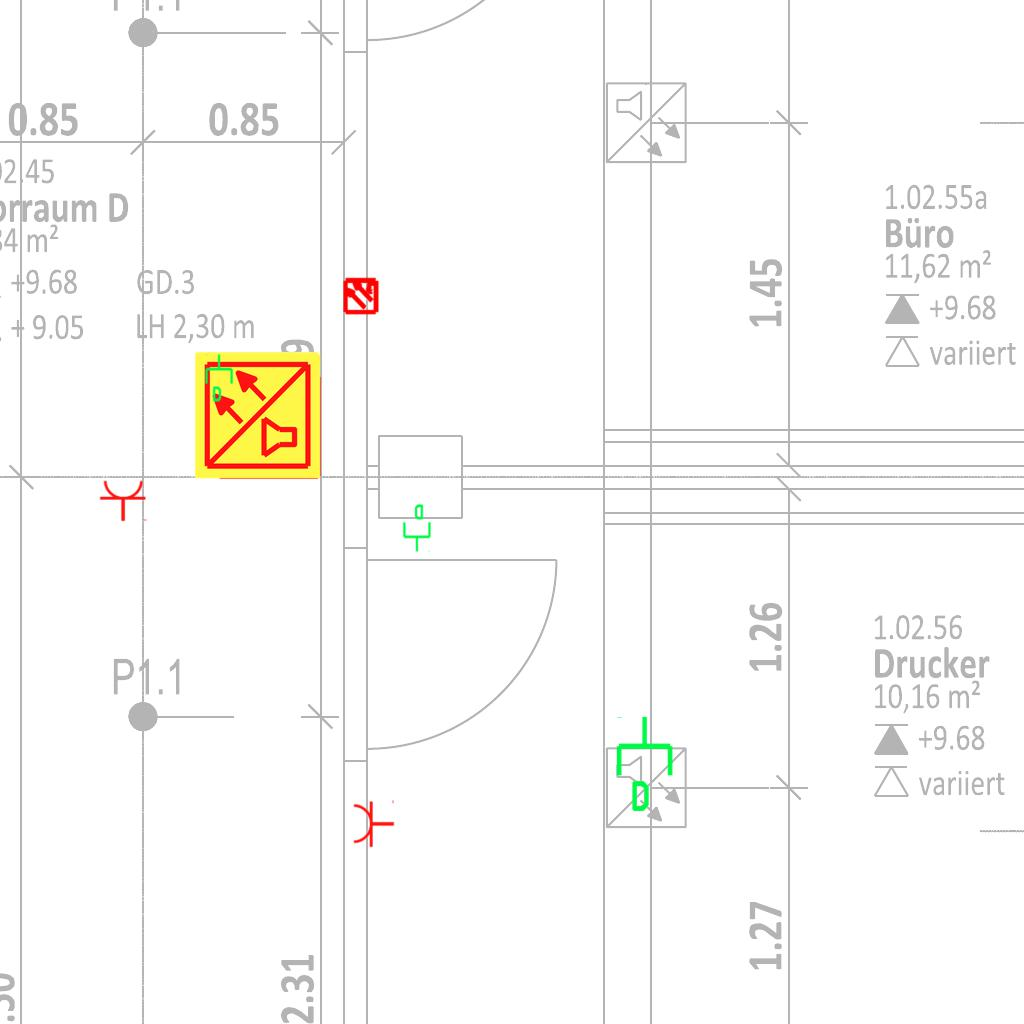Datenanschluss_einfach: (612, 714, 681, 814), (399, 503, 433, 553), (203, 353, 237, 403)
OKW_Multisensormelder_(Kombination_optischer_Rauch-Kahlenmonoxid_Waerme-Melder): (192, 349, 324, 481)
OT_Multisensormelder_(Kombination_RMO_WMD): (333, 267, 389, 323)
Schukosteckdose_einfach: (352, 798, 395, 848), (99, 479, 149, 522)
